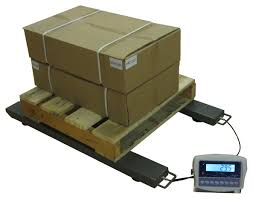Industrial Scale: (5, 76, 248, 196)
